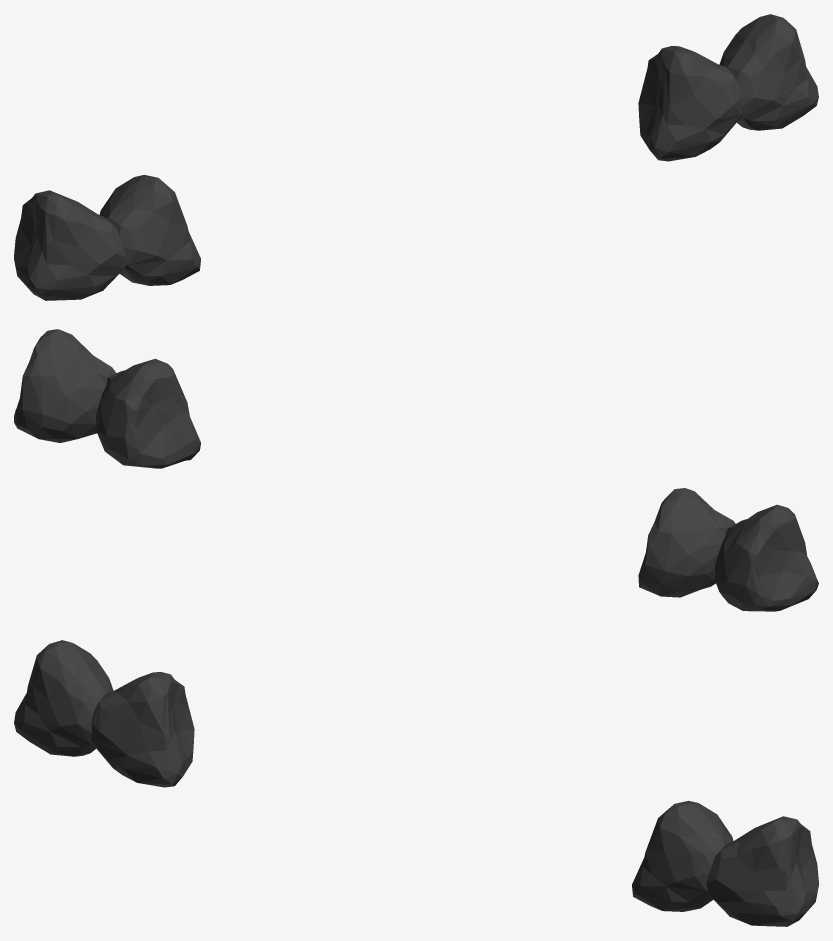
File: skel_FL_prox_sesamoids.glb
3 renders of one model, top to bottom at view 1: azimuth 30°, elevation 25°; view 2: azimuth 150°, elevation 25°; view 3: azimuth 330°, elevation 25°, orthographic.
Parts seen in each view (by area): view 1: skel_FL_prox_sesamoids; view 2: skel_FL_prox_sesamoids; view 3: skel_FL_prox_sesamoids.
Boxes of the visible parts, x1,y1,x2,y2 form: skel_FL_prox_sesamoids: (14, 14, 818, 300); skel_FL_prox_sesamoids: (14, 329, 818, 611); skel_FL_prox_sesamoids: (14, 640, 818, 926).
Bounding box in the file's own units: 0.00407 × 0.000531 × 0.000474.
Materials: 1 (1 with a texture image).
